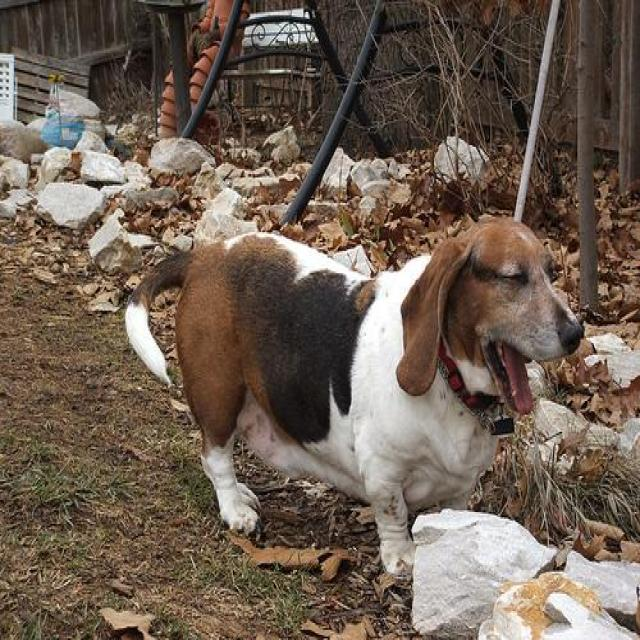basset: (123, 218, 585, 574)
